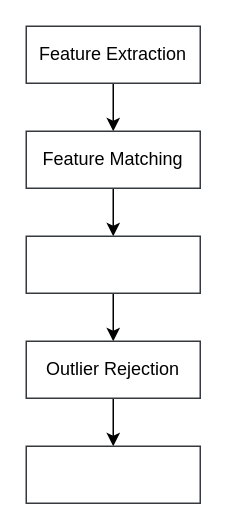
Image size: 227x530. Some labels were removed from this diagram. Each missing label, with the centre of its shape:
Depth Estimation: (112,264)
Pose Estimation: (112,474)
